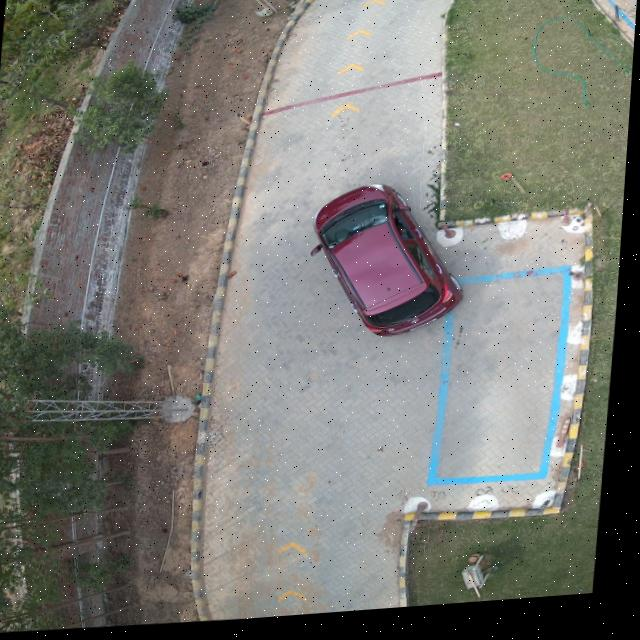car: (315, 188, 468, 342)
